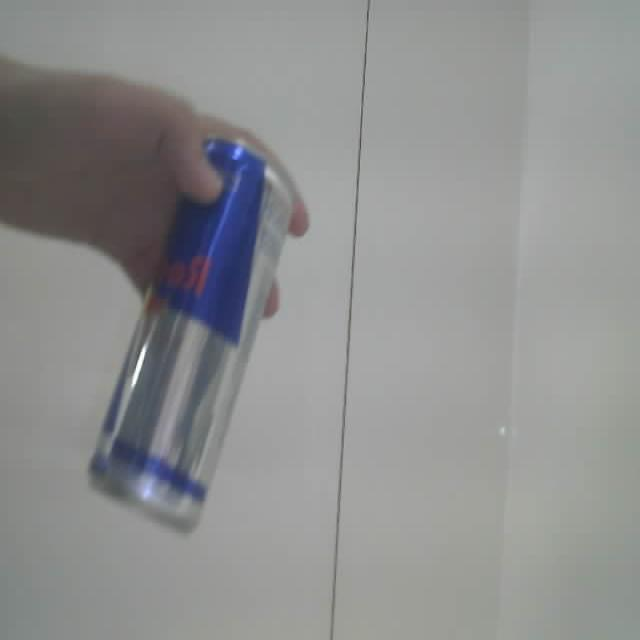redbull can: (89, 140, 293, 530)
